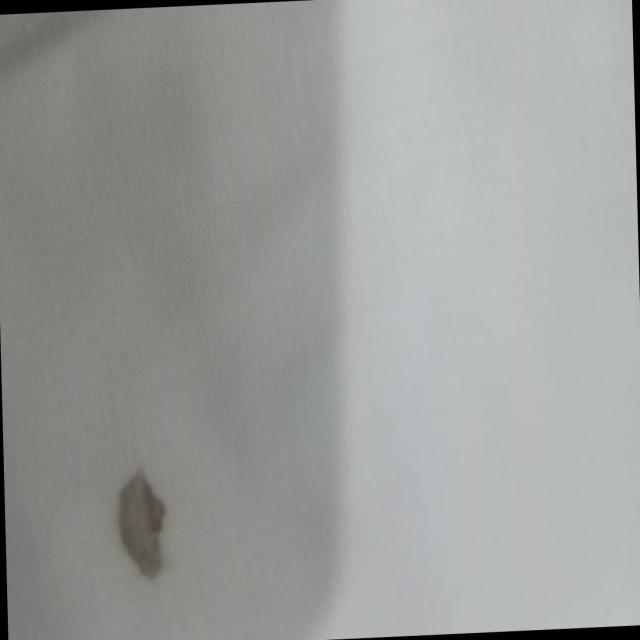stain: (108, 452, 178, 593)
